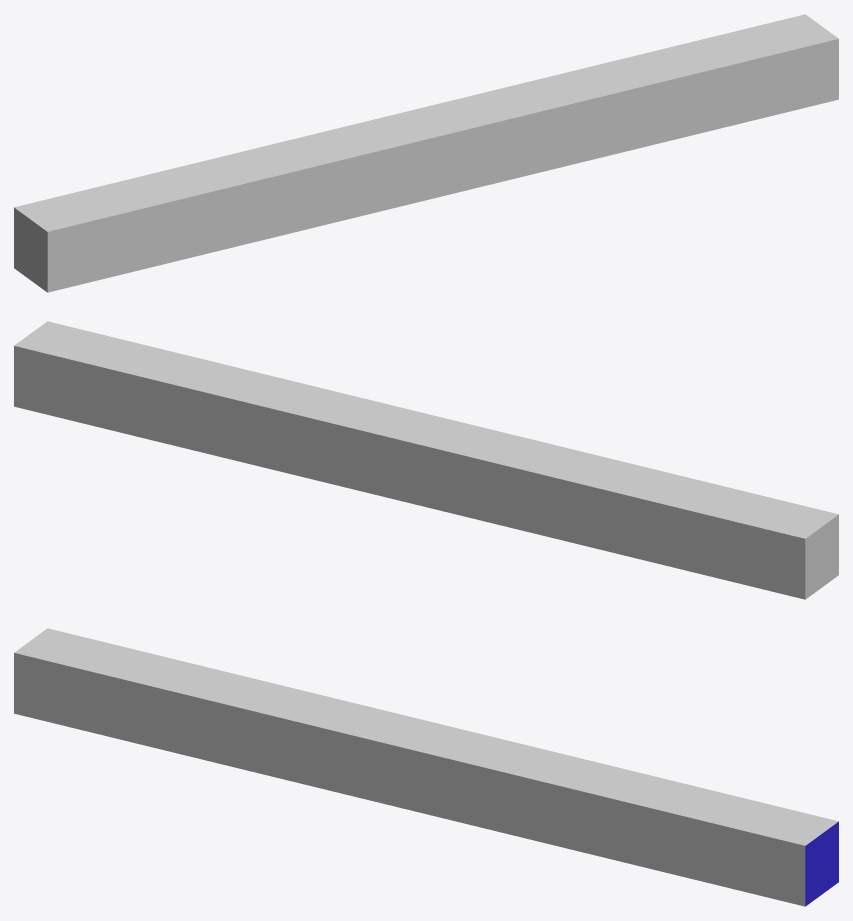
The model's file is Road_Stright.fbx.
The picture shows the model from 3 angles, top to bottom: view 1: azimuth 30°, elevation 25°; view 2: azimuth 150°, elevation 25°; view 3: azimuth 330°, elevation 25°; orthographic projection.
Parts seen in each view (by area): view 1: Cube; view 2: Cube; view 3: Cube.
Part boxes in pixels (x1,y1,x2,y2): Cube: (14,14,838,292); Cube: (14,321,838,599); Cube: (14,628,838,906).
Bounding box in the file's own units: 2724 × 200 × 200.
